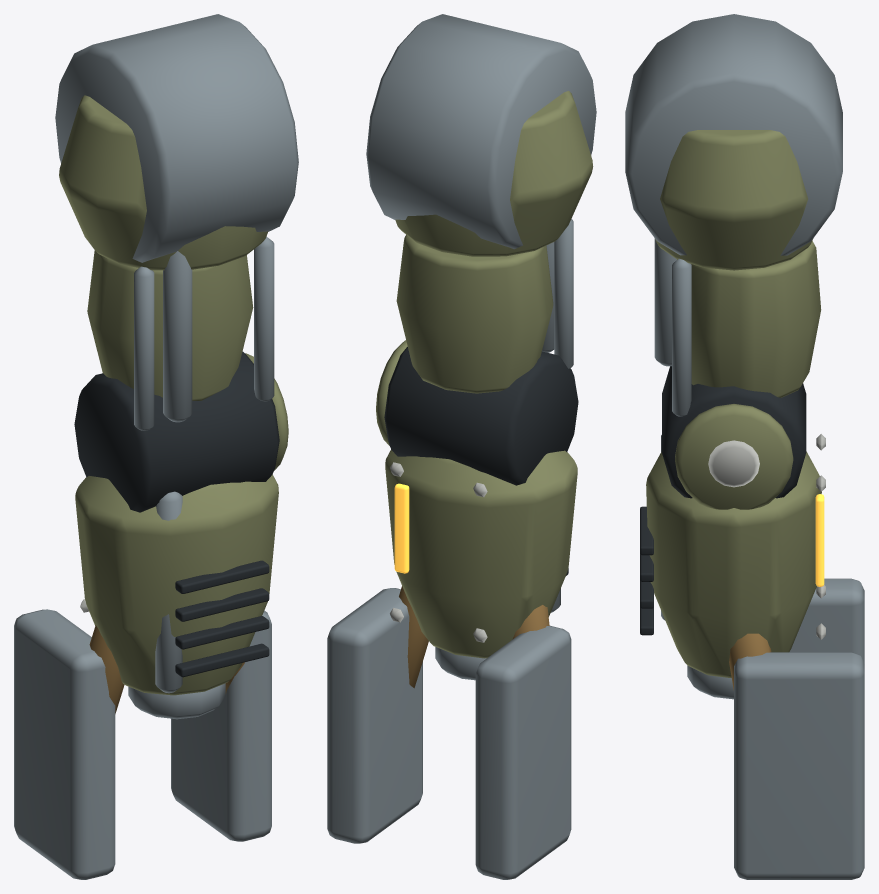
File: arms_11.glb
The picture shows the model from 3 angles, left to right: view 1: azimuth 30°, elevation 25°; view 2: azimuth 150°, elevation 25°; view 3: azimuth 270°, elevation 25°; orthographic projection. The views are drawn at different scales.
Visible parts, largest first — view 1: Forearm.010_Geometry, UpperArm.010_Geometry, Shoulder bearing.010; view 2: Forearm.010_Geometry, UpperArm.010_Geometry, Shoulder bearing.010; view 3: Forearm.010_Geometry, UpperArm.010_Geometry, Shoulder bearing.010.
Part boxes in pixels (left/top/right/bottom): Forearm.010_Geometry: left=14, top=353, right=288, bottom=879; UpperArm.010_Geometry: left=59, top=95, right=279, bottom=512; Shoulder bearing.010: left=55, top=14, right=298, bottom=262; Forearm.010_Geometry: left=327, top=340, right=577, bottom=879; UpperArm.010_Geometry: left=384, top=91, right=593, bottom=485; Shoulder bearing.010: left=366, top=14, right=596, bottom=249; Forearm.010_Geometry: left=640, top=404, right=864, bottom=879; UpperArm.010_Geometry: left=654, top=130, right=821, bottom=498; Shoulder bearing.010: left=625, top=14, right=842, bottom=255.
Size of the model in its own units: 0.2182 by 0.805 by 0.22.
